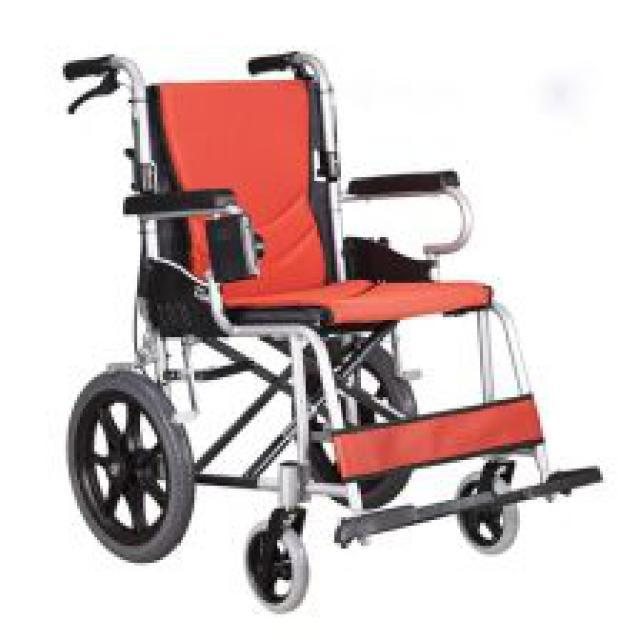wheelchairs: (52, 45, 605, 612)
